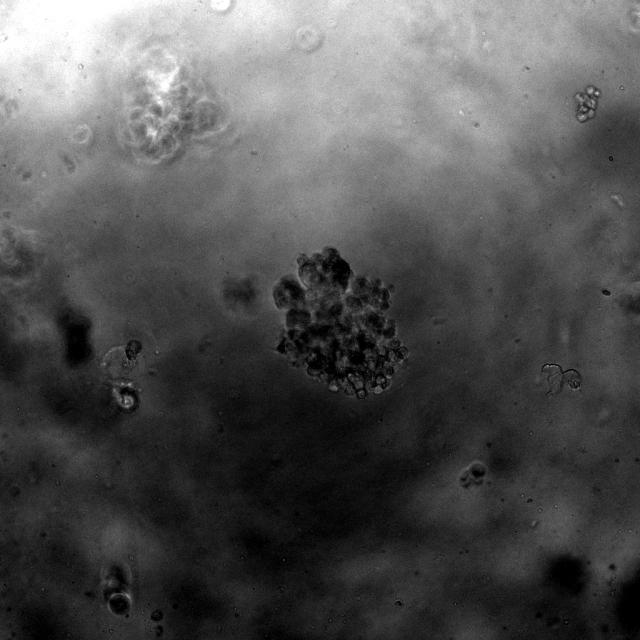organoid: (273, 247, 408, 398), (119, 48, 227, 165), (575, 85, 601, 123), (459, 461, 486, 487), (108, 592, 131, 614), (126, 339, 141, 359), (151, 609, 162, 622)
